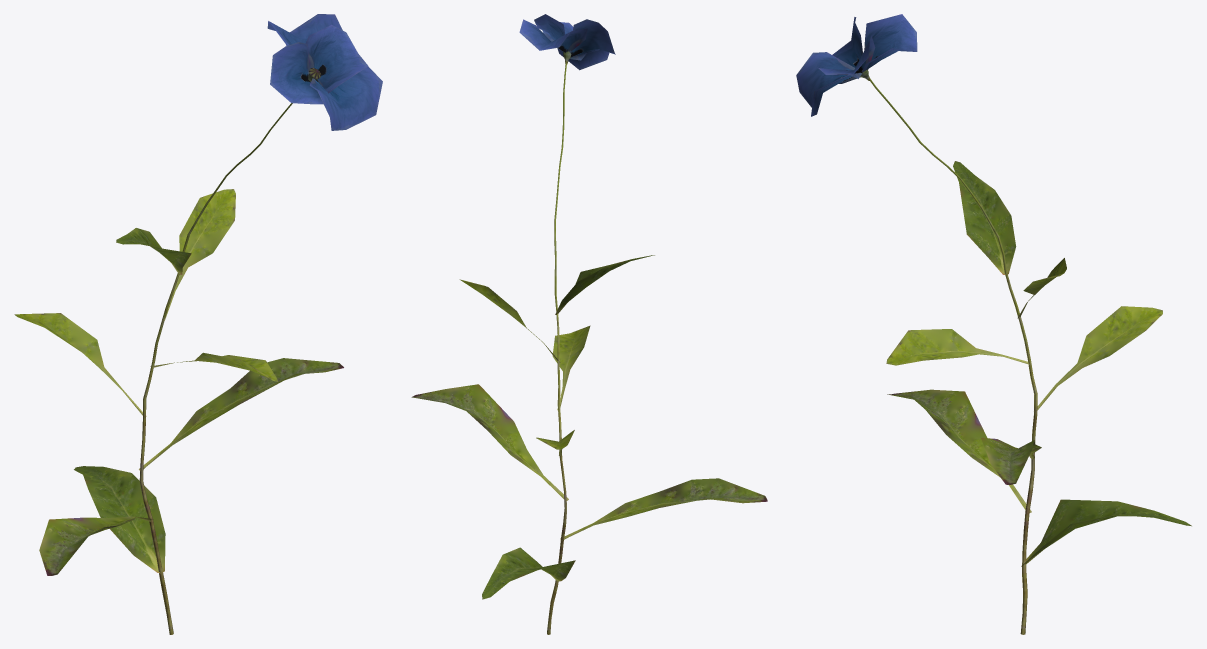
File: Poppy_OG_normal_lightblue.glb
3 renders of one model, left to right at view 1: azimuth 30°, elevation 25°; view 2: azimuth 150°, elevation 25°; view 3: azimuth 270°, elevation 25°, orthographic. The views are drawn at different scales.
Parts seen in each view (by area): view 1: xtall; view 2: xtall; view 3: xtall.
Boxes of the visible parts, x1=… form: xtall: x1=14, y1=14, x2=382, y2=634; xtall: x1=411, y1=14, x2=767, y2=634; xtall: x1=796, y1=14, x2=1191, y2=634.
Bounding box in the file's own units: 1.75 × 3.06 × 1.73.
1 material, 1 textured.
